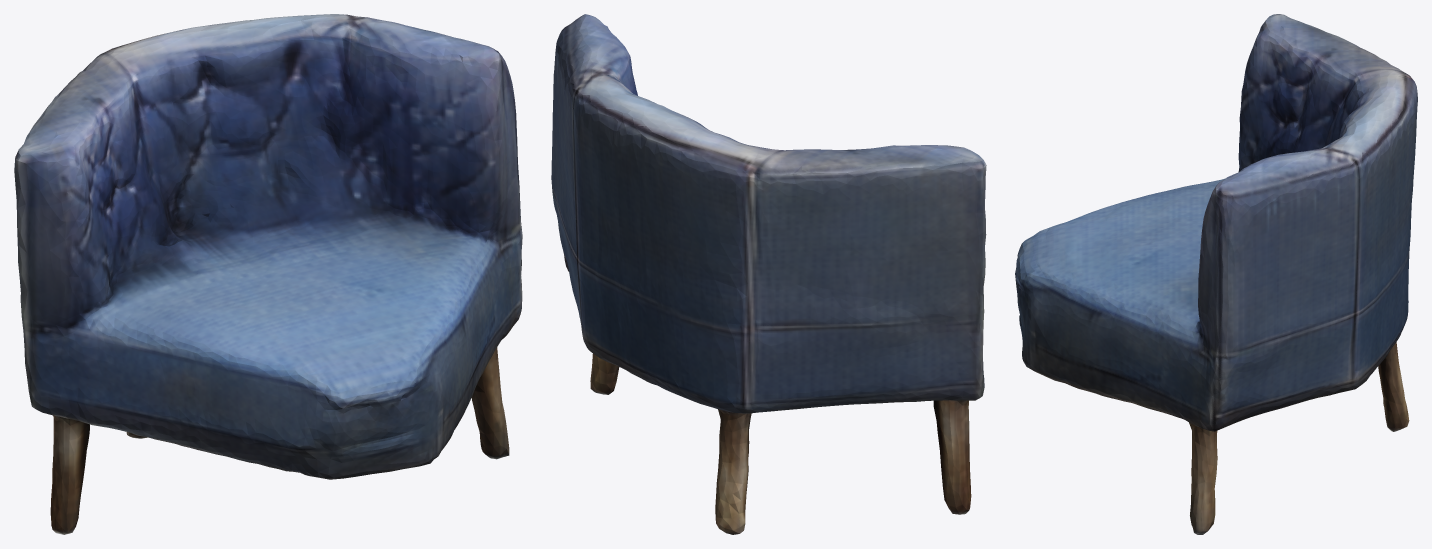
Rendered from SESSION_1714244406_4855505_preview.gltf.
3 views of the same model, side by side, from view 1: azimuth 30°, elevation 25°; view 2: azimuth 150°, elevation 25°; view 3: azimuth 270°, elevation 25° (orthographic). The views are drawn at different scales.
Parts seen in each view (by area): view 1: output; view 2: output; view 3: output.
Boxes of the visible parts, left/top/right/bottom form: output: left=14, top=14, right=522, bottom=534; output: left=551, top=14, right=986, bottom=534; output: left=1015, top=14, right=1417, bottom=534.
Bounding box in the file's own units: 1.73 × 1.41 × 1.45.
1 material, 1 textured.
